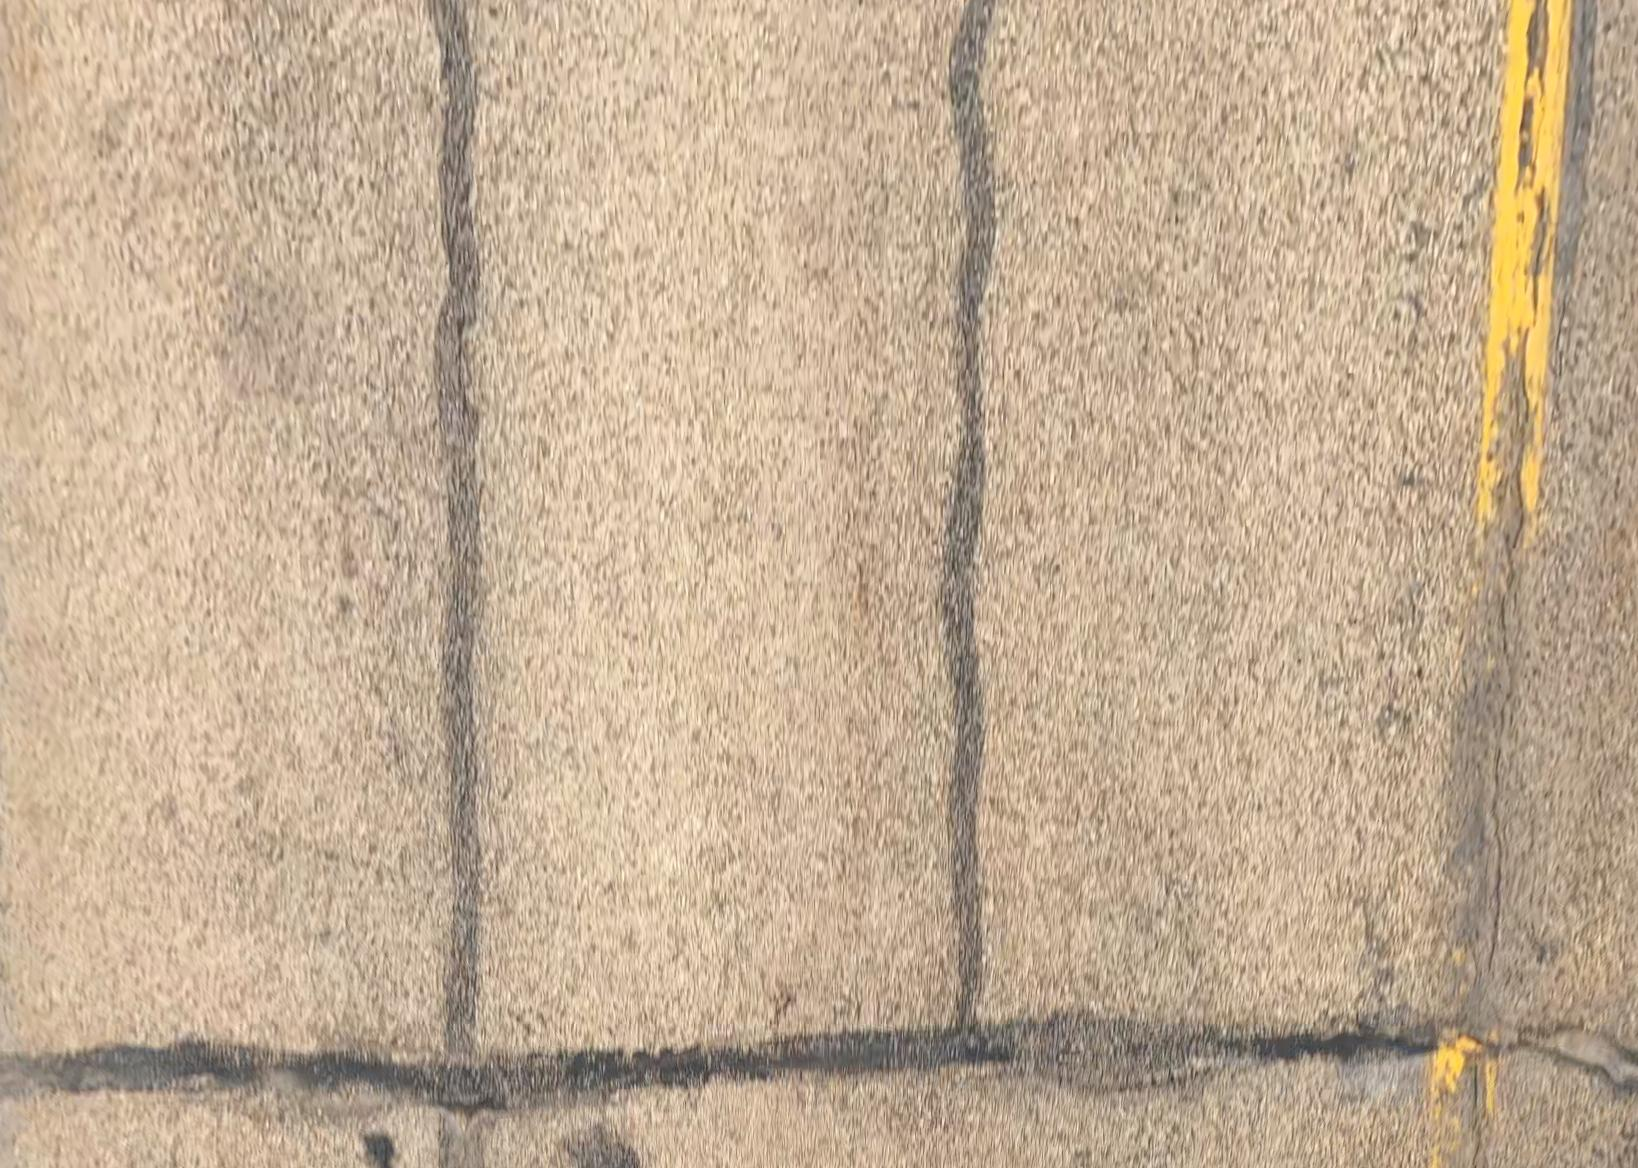pothole_patch_good: (1016, 1018, 1239, 1087), (1520, 1026, 1638, 1091)
